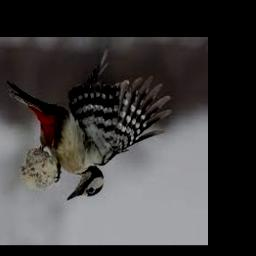Woodpecker: (6, 51, 172, 201)
